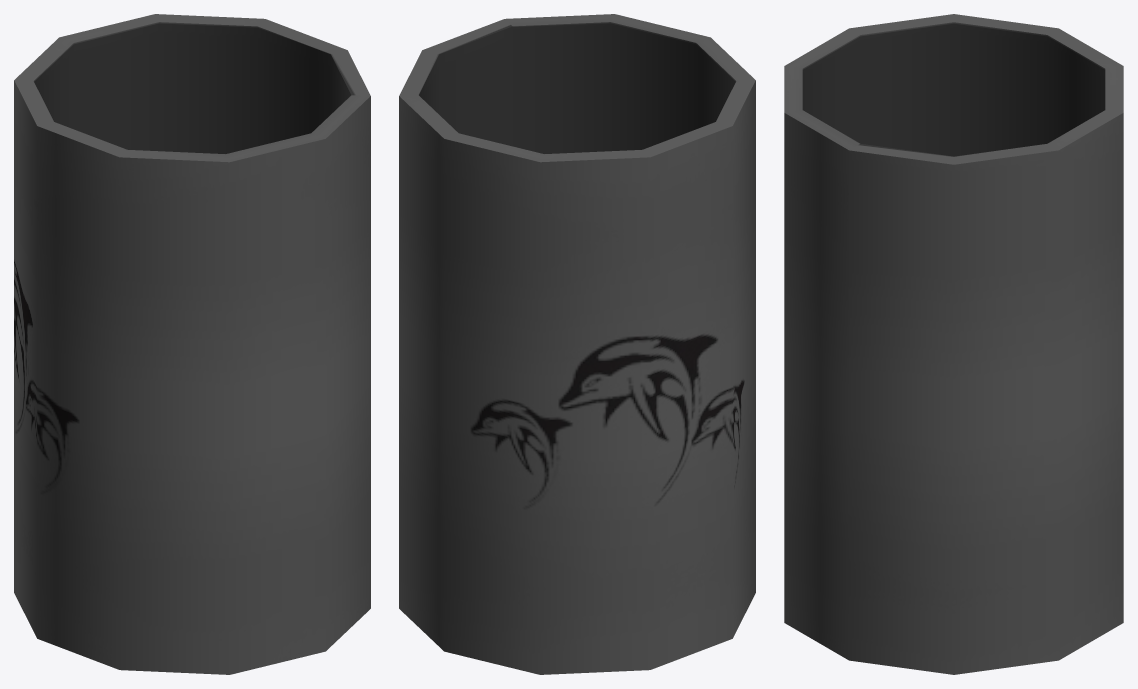
The model's file is PenHolder.FBX.
3 renders of one model, left to right at view 1: azimuth 30°, elevation 25°; view 2: azimuth 150°, elevation 25°; view 3: azimuth 270°, elevation 25°, orthographic.
Parts seen in each view (by area): view 1: Cylinder009; view 2: Cylinder009; view 3: Cylinder009.
Boxes of the visible parts, left/top/right/bottom form: Cylinder009: left=14, top=14, right=370, bottom=674; Cylinder009: left=399, top=14, right=755, bottom=674; Cylinder009: left=784, top=14, right=1123, bottom=674.
Bounding box in the file's own units: 21.17 × 33.39 × 20.13.
Materials: 1 (1 with a texture image).
